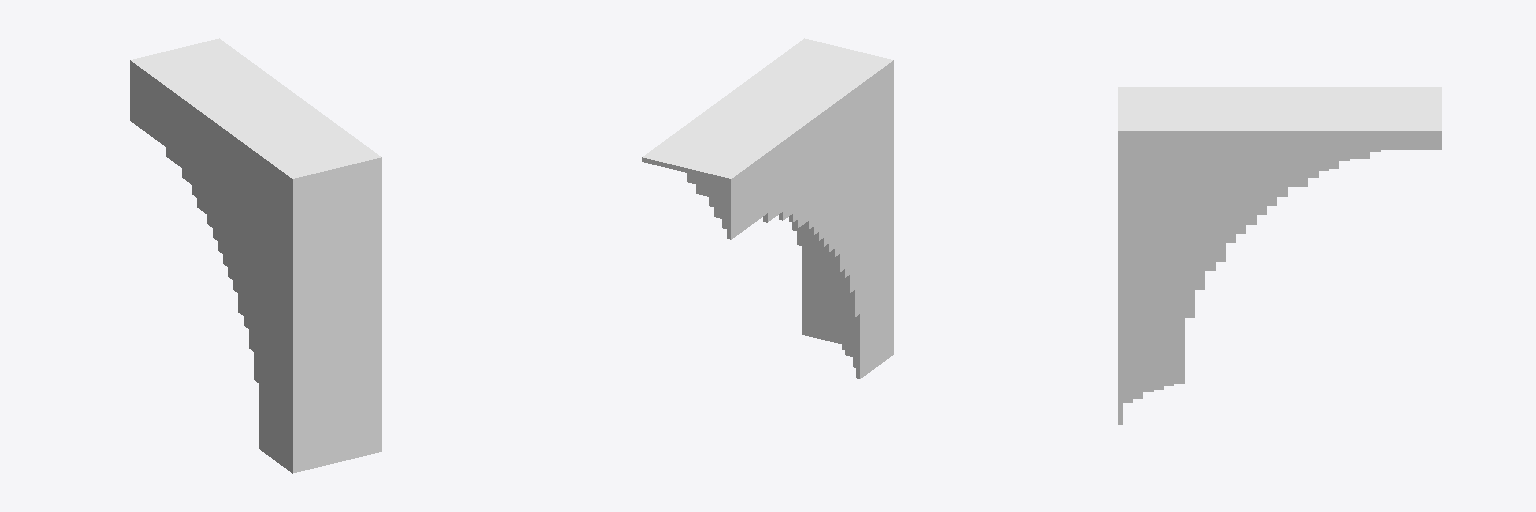
File: MushroomDaddyInterior_01-6.obj
3 renders of one model, left to right at view 1: azimuth 30°, elevation 25°; view 2: azimuth 150°, elevation 25°; view 3: azimuth 270°, elevation 25°, orthographic.
Parts seen in each view (by area): view 1: MushroomDaddyInterior_01-6; view 2: MushroomDaddyInterior_01-6; view 3: MushroomDaddyInterior_01-6.
Part boxes in pixels (x1,y1,x2,y2): MushroomDaddyInterior_01-6: (130, 38, 381, 473); MushroomDaddyInterior_01-6: (642, 38, 893, 378); MushroomDaddyInterior_01-6: (1118, 87, 1441, 424).
Bounding box in the file's own units: 40 × 126 × 126.